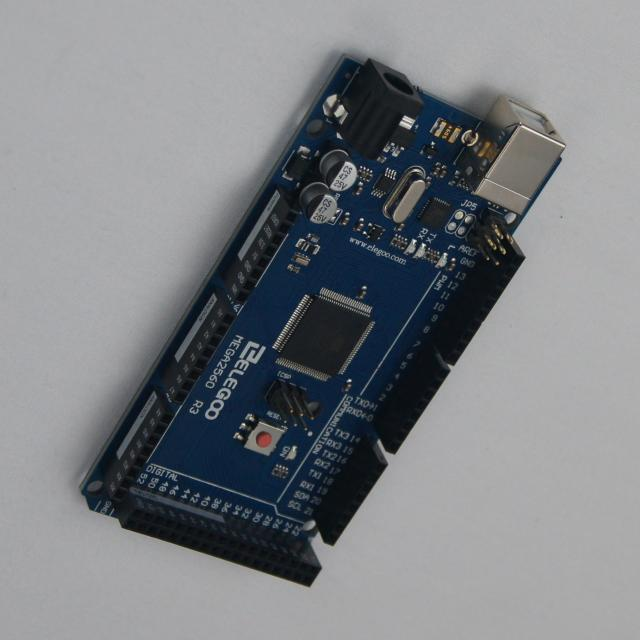Arduino Mega 2560 -Blue-: (84, 58, 566, 587)
